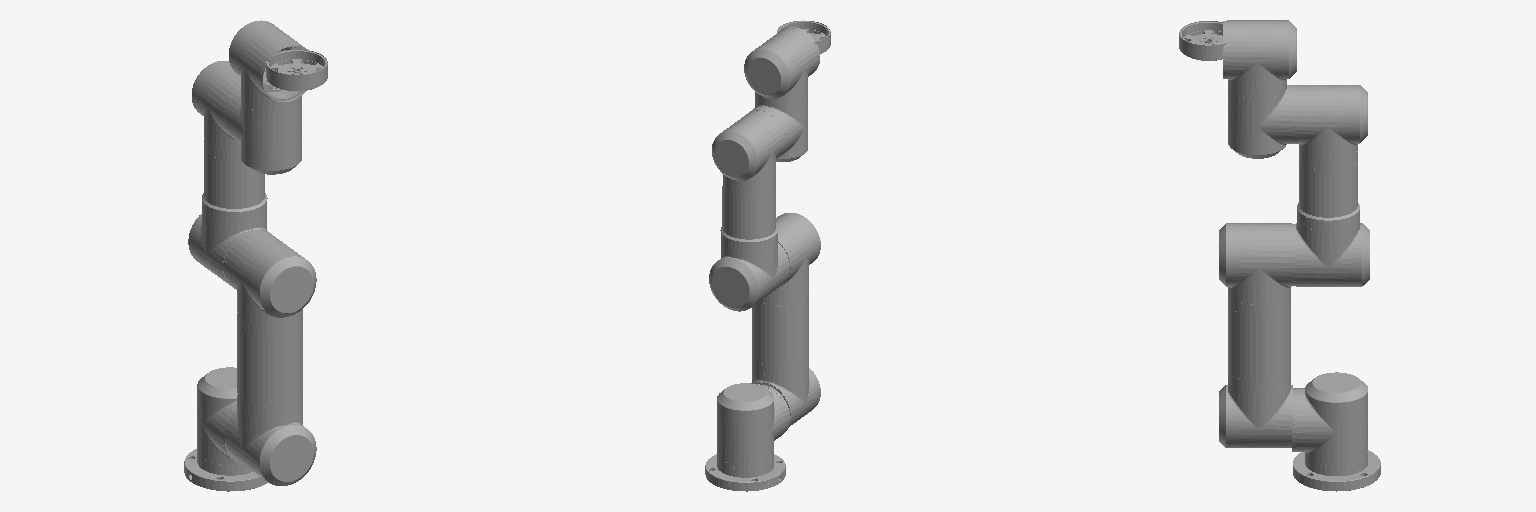
robot.urdf — utra6_550:
<?xml version="1.0" encoding="utf-8"?>
<!-- =================================================================================== -->
<!-- |    This document was autogenerated by xacro from ../urdf/utra6_550_robot.urdf.xacro | -->
<!-- |    EDITING THIS FILE BY HAND IS NOT RECOMMENDED                                 | -->
<!-- =================================================================================== -->
<robot name="utra6_550">
  <!--
    Author: [author] <[email redacted]> <[email redacted]>
    Contributers:
  -->
  <link name="world"/>
  <joint name="world_joint" type="fixed">
    <parent link="world"/>
    <child link="base_link"/>
    <origin rpy="0 0 0" xyz="0 0 0"/>
  </joint>
  <material name="Black">
    <color rgba="0.0 0.0 0.0 1.0"/>
  </material>
  <material name="Red">
    <color rgba="0.8 0.0 0.0 1.0"/>
  </material>
  <material name="White">
    <color rgba="1.0 1.0 1.0 1.0"/>
  </material>
  <material name="Silver">
    <color rgba="0.7 0.7 0.7 1.0"/>
  </material>
  <link name="base_link">
    <inertial>
      <origin rpy="0 0 0" xyz="0 0 0"/>
      <mass value="1e-05"/>
      <inertia ixx="0" ixy="0" ixz="0" iyy="0" iyz="0" izz="0"/>
    </inertial>
    <visual>
      <origin rpy="0 0 0" xyz="0 0 0"/>
      <geometry>
        <mesh filename="package://utra_description/meshes/utra6_550/visual/base.STL"/>
      </geometry>
      <material name="Silver"/>
    </visual>
    <collision>
      <origin rpy="0 0 0" xyz="0 0 0"/>
      <geometry>
        <mesh filename="package://utra_description/meshes/utra6_550/visual/base.STL"/>
      </geometry>
    </collision>
  </link>
  <joint name="joint1" type="revolute">
    <origin rpy="0 0 0" xyz="0 0 0"/>
    <parent link="base_link"/>
    <child link="link_1"/>
    <axis xyz="0 0 1"/>
    <limit effort="0" lower="-6.28318530718" upper="6.28318530718" velocity="3.14"/>
    <dynamics damping="0" friction="0"/>
  </joint>
  <link name="link_1">
    <inertial>
      <origin rpy="0 0 0" xyz="0 0 0"/>
      <mass value="1e-05"/>
      <inertia ixx="0" ixy="0" ixz="0" iyy="0" iyz="0" izz="0"/>
    </inertial>
    <visual>
      <origin rpy="0 0 0" xyz="0 0 0"/>
      <geometry>
        <mesh filename="package://utra_description/meshes/utra6_550/visual/link1.STL"/>
      </geometry>
      <material name="Silver"/>
    </visual>
    <collision>
      <origin rpy="0 0 0" xyz="0 0 0"/>
      <geometry>
        <mesh filename="package://utra_description/meshes/utra6_550/visual/link1.STL"/>
      </geometry>
    </collision>
  </link>
  <joint name="joint2" type="revolute">
    <origin rpy="0 0 0" xyz="0 0 0.0845"/>
    <parent link="link_1"/>
    <child link="link_2"/>
    <axis xyz="0 -1 0"/>
    <limit effort="0" lower="-6.28318530718" upper="6.28318530718" velocity="3.14"/>
    <dynamics damping="0" friction="0"/>
  </joint>
  <link name="link_2">
    <inertial>
      <origin rpy="0 0 0" xyz="0 0 0"/>
      <mass value="1e-05"/>
      <inertia ixx="0" ixy="0" ixz="0" iyy="0" iyz="0" izz="0"/>
    </inertial>
    <visual>
      <origin rpy="0 0 0" xyz="0 0 0"/>
      <geometry>
        <mesh filename="package://utra_description/meshes/utra6_550/visual/link2.STL"/>
      </geometry>
      <material name="Silver"/>
    </visual>
    <collision>
      <origin rpy="0 0 0" xyz="0 0 0"/>
      <geometry>
        <mesh filename="package://utra_description/meshes/utra6_550/visual/link2.STL"/>
      </geometry>
    </collision>
  </link>
  <joint name="joint3" type="revolute">
    <origin rpy="0 0 0" xyz="0 0 0.2425"/>
    <parent link="link_2"/>
    <child link="link_3"/>
    <axis xyz="0 1 0"/>
    <limit effort="0" lower="-6.28318530718" upper="6.28318530718" velocity="3.14"/>
    <dynamics damping="0" friction="0"/>
  </joint>
  <link name="link_3">
    <inertial>
      <origin rpy="0 0 0" xyz="0 0 0"/>
      <mass value="1e-05"/>
      <inertia ixx="0" ixy="0" ixz="0" iyy="0" iyz="0" izz="0"/>
    </inertial>
    <visual>
      <origin rpy="0 0 0" xyz="0 0 0"/>
      <geometry>
        <mesh filename="package://utra_description/meshes/utra6_550/visual/link3.STL"/>
      </geometry>
      <material name="Silver"/>
    </visual>
    <collision>
      <origin rpy="0 0 0" xyz="0 0 0"/>
      <geometry>
        <mesh filename="package://utra_description/meshes/utra6_550/visual/link3.STL"/>
      </geometry>
    </collision>
  </link>
  <joint name="joint4" type="revolute">
    <origin rpy="0 0 0" xyz="0 0 0.211"/>
    <parent link="link_3"/>
    <child link="link_4"/>
    <axis xyz="0 -1 0"/>
    <limit effort="0" lower="-6.28318530718" upper="6.28318530718" velocity="3.14"/>
    <dynamics damping="0" friction="0"/>
  </joint>
  <link name="link_4">
    <inertial>
      <origin rpy="0 0 0" xyz="0 0 0"/>
      <mass value="1e-05"/>
      <inertia ixx="0" ixy="0" ixz="0" iyy="0" iyz="0" izz="0"/>
    </inertial>
    <visual>
      <origin rpy="0 0 0" xyz="0 0 0"/>
      <geometry>
        <mesh filename="package://utra_description/meshes/utra6_550/visual/link4.STL"/>
      </geometry>
      <material name="Silver"/>
    </visual>
    <collision>
      <origin rpy="0 0 0" xyz="0 0 0"/>
      <geometry>
        <mesh filename="package://utra_description/meshes/utra6_550/visual/link4.STL"/>
      </geometry>
    </collision>
  </link>
  <joint name="joint5" type="revolute">
    <origin rpy="0 0 0" xyz="0 -0.1075 0.0965"/>
    <parent link="link_4"/>
    <child link="link_5"/>
    <axis xyz="0 0 1"/>
    <limit effort="0" lower="-6.28318530718" upper="6.28318530718" velocity="3.14"/>
    <dynamics damping="0" friction="0"/>
  </joint>
  <link name="link_5">
    <inertial>
      <mass value="1e-05"/>
      <origin rpy="0 0 0" xyz="0 0 0"/>
      <inertia ixx="0" ixy="0" ixz="0" iyy="0" iyz="0" izz="0"/>
    </inertial>
    <visual>
      <origin rpy="0 0 0" xyz="0 0 0"/>
      <geometry>
        <mesh filename="package://utra_description/meshes/utra6_550/visual/link5.STL"/>
      </geometry>
      <material name="Silver"/>
    </visual>
    <collision>
      <origin rpy="0 0 0" xyz="0 0 0"/>
      <geometry>
        <mesh filename="package://utra_description/meshes/utra6_550/visual/link5.STL"/>
      </geometry>
    </collision>
  </link>
  <joint name="joint6" type="revolute">
    <origin rpy="1.57079632679 0 0" xyz="0 -0.0665 0"/>
    <parent link="link_5"/>
    <child link="link_6"/>
    <axis xyz="0 0 1"/>
    <limit effort="0" lower="-6.28318530718" upper="6.28318530718" velocity="3.14"/>
    <dynamics damping="0" friction="0"/>
  </joint>
  <link name="link_6">
    <inertial>
      <mass value="1e-05"/>
      <origin rpy="0 0 0" xyz="0 0 0"/>
      <inertia ixx="0" ixy="0" ixz="0" iyy="0" iyz="0" izz="0"/>
    </inertial>
    <visual>
      <origin rpy="0 0 0" xyz="0 0 0"/>
      <geometry>
        <mesh filename="package://utra_description/meshes/utra6_550/visual/link6.STL"/>
      </geometry>
      <material name="Silver"/>
    </visual>
    <collision>
      <origin rpy="0 0 0" xyz="0 0 0"/>
      <geometry>
        <mesh filename="package://utra_description/meshes/utra6_550/visual/link6.STL"/>
      </geometry>
    </collision>
  </link>
  <transmission name="tran1">
    <type>transmission_interface/SimpleTransmission</type>
    <joint name="joint1">
      <hardwareInterface>hardware_interface/PositionJointInterface</hardwareInterface>
    </joint>
    <actuator name="motor1">
      <hardwareInterface>hardware_interface/PositionJointInterface</hardwareInterface>
      <mechanicalReduction>1</mechanicalReduction>
    </actuator>
  </transmission>
  <transmission name="tran1">
    <type>transmission_interface/SimpleTransmission</type>
    <joint name="joint2">
      <hardwareInterface>hardware_interface/PositionJointInterface</hardwareInterface>
    </joint>
    <actuator name="motor1">
      <hardwareInterface>hardware_interface/PositionJointInterface</hardwareInterface>
      <mechanicalReduction>1</mechanicalReduction>
    </actuator>
  </transmission>
  <transmission name="tran1">
    <type>transmission_interface/SimpleTransmission</type>
    <joint name="joint3">
      <hardwareInterface>hardware_interface/PositionJointInterface</hardwareInterface>
    </joint>
    <actuator name="motor1">
      <hardwareInterface>hardware_interface/PositionJointInterface</hardwareInterface>
      <mechanicalReduction>1</mechanicalReduction>
    </actuator>
  </transmission>
  <transmission name="tran1">
    <type>transmission_interface/SimpleTransmission</type>
    <joint name="joint4">
      <hardwareInterface>hardware_interface/PositionJointInterface</hardwareInterface>
    </joint>
    <actuator name="motor1">
      <hardwareInterface>hardware_interface/PositionJointInterface</hardwareInterface>
      <mechanicalReduction>1</mechanicalReduction>
    </actuator>
  </transmission>
  <transmission name="tran1">
    <type>transmission_interface/SimpleTransmission</type>
    <joint name="joint5">
      <hardwareInterface>hardware_interface/PositionJointInterface</hardwareInterface>
    </joint>
    <actuator name="motor1">
      <hardwareInterface>hardware_interface/PositionJointInterface</hardwareInterface>
      <mechanicalReduction>1</mechanicalReduction>
    </actuator>
  </transmission>
  <transmission name="tran1">
    <type>transmission_interface/SimpleTransmission</type>
    <joint name="joint6">
      <hardwareInterface>hardware_interface/PositionJointInterface</hardwareInterface>
    </joint>
    <actuator name="motor1">
      <hardwareInterface>hardware_interface/PositionJointInterface</hardwareInterface>
      <mechanicalReduction>1</mechanicalReduction>
    </actuator>
  </transmission>
  <gazebo>
    <plugin filename="libgazebo_ros_control.so" name="gazebo_ros_control">
      <robotNamespace>/utra6_550</robotNamespace>
      <robotSimType>gazebo_ros_control/DefaultRobotHWSim</robotSimType>
      <legacyModeNS>true</legacyModeNS>
    </plugin>
  </gazebo>
</robot>

--- What the picture shows (computed from the rendered views, not written in the file) ---
The picture shows the robot from 3 angles, left to right: view 1: azimuth 30°, elevation 25°; view 2: azimuth 150°, elevation 25°; view 3: azimuth 270°, elevation 25°; orthographic projection.
Robot: utra6_550 — 8 links, 7 joints (6 revolute, 1 fixed); root link world; default pose: all joints at 0.
Links seen in each view (by area): view 1: link_2, link_3, link_4, link_5, link_1, link_6, base_link; view 2: link_3, link_2, link_1, link_5, base_link, link_4, link_6; view 3: link_2, link_3, link_1, link_5, link_4, base_link, link_6.
Link boxes in pixels (bbox=[...]): link_2: bbox=[225, 231, 316, 485]; link_3: bbox=[188, 61, 270, 285]; link_4: bbox=[226, 92, 301, 174]; link_5: bbox=[229, 20, 309, 111]; link_1: bbox=[197, 367, 242, 463]; link_6: bbox=[266, 49, 327, 90]; base_link: bbox=[184, 449, 268, 491]; link_3: bbox=[709, 109, 789, 311]; link_2: bbox=[751, 213, 820, 426]; link_1: bbox=[717, 383, 790, 465]; link_5: bbox=[744, 27, 819, 107]; base_link: bbox=[705, 454, 785, 491]; link_4: bbox=[750, 96, 807, 161]; link_6: bbox=[777, 20, 830, 53]; link_2: bbox=[1219, 223, 1292, 447]; link_3: bbox=[1293, 85, 1369, 286]; link_1: bbox=[1292, 372, 1367, 462]; link_5: bbox=[1223, 20, 1296, 98]; link_4: bbox=[1228, 85, 1293, 158]; base_link: bbox=[1293, 450, 1380, 491]; link_6: bbox=[1179, 21, 1226, 60].
Size in the robot's own frame: 0.12 by 0.2737 by 0.6745 metres.
Meshes: 7 distinct files referenced, 7 mesh visuals loaded (7 binary STL).
